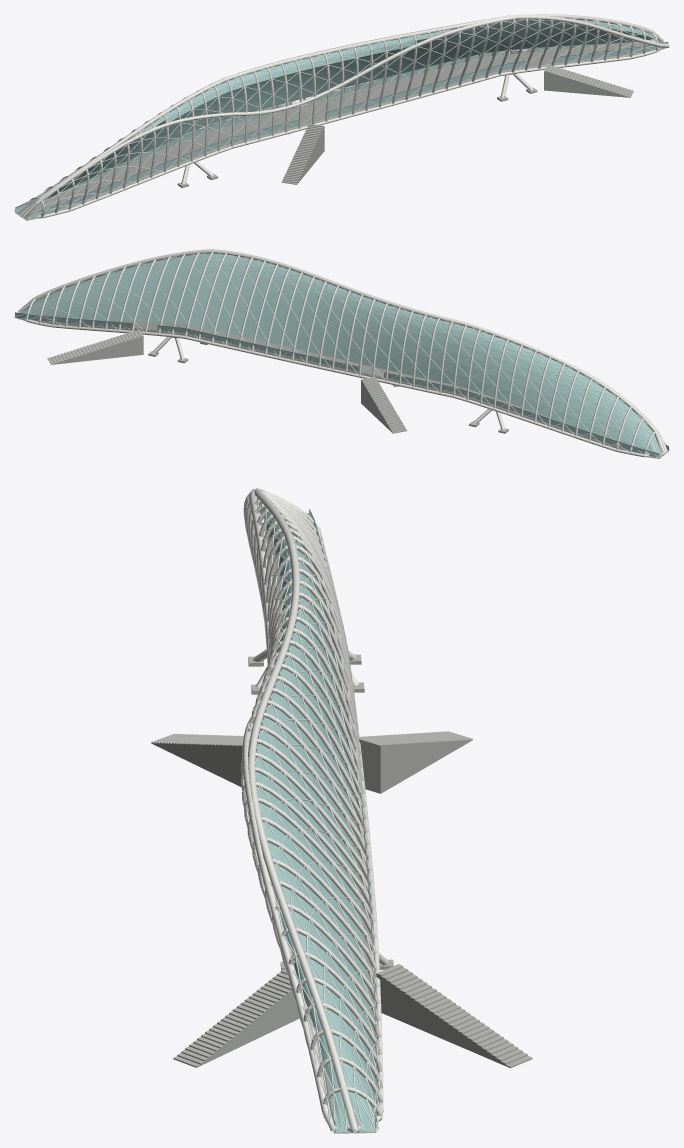
The model's file is bridge-of-peace-tbilisi-near.glb.
3 views of the same model, one above another, from view 1: azimuth 30°, elevation 25°; view 2: azimuth 150°, elevation 25°; view 3: azimuth 270°, elevation 25° (orthographic). The views are drawn at different scales.
Visible parts, largest first — view 1: bridge-of-peace-tbilisi-0-glass, bridge-of-peace-tbilisi-0-steel, bridge-of-peace-tbilisi-0-tube, bridge-of-peace-tbilisi-0-walk, bridge-of-peace-tbilisi-0-glow, bridge-of-peace-tbilisi-0-stair, bridge-of-peace-tbilisi-0-deck, bridge-of-peace-tbilisi-0-rail; view 2: bridge-of-peace-tbilisi-0-glass, bridge-of-peace-tbilisi-0-steel, bridge-of-peace-tbilisi-0-glow, bridge-of-peace-tbilisi-0-tube, bridge-of-peace-tbilisi-0-stair, bridge-of-peace-tbilisi-0-walk, bridge-of-peace-tbilisi-0-deck, bridge-of-peace-tbilisi-0-rail; view 3: bridge-of-peace-tbilisi-0-steel, bridge-of-peace-tbilisi-0-glass, bridge-of-peace-tbilisi-0-stair, bridge-of-peace-tbilisi-0-tube, bridge-of-peace-tbilisi-0-glow, bridge-of-peace-tbilisi-0-walk.
Part boxes in pixels (<box>): bridge-of-peace-tbilisi-0-glass: <box>14,19,668,220</box>; bridge-of-peace-tbilisi-0-steel: <box>27,17,658,217</box>; bridge-of-peace-tbilisi-0-tube: <box>19,14,669,218</box>; bridge-of-peace-tbilisi-0-walk: <box>15,42,666,220</box>; bridge-of-peace-tbilisi-0-glow: <box>14,18,669,219</box>; bridge-of-peace-tbilisi-0-stair: <box>177,48,633,187</box>; bridge-of-peace-tbilisi-0-deck: <box>27,48,666,220</box>; bridge-of-peace-tbilisi-0-rail: <box>15,42,667,215</box>; bridge-of-peace-tbilisi-0-glass: <box>15,253,668,459</box>; bridge-of-peace-tbilisi-0-steel: <box>25,251,655,455</box>; bridge-of-peace-tbilisi-0-glow: <box>14,252,669,458</box>; bridge-of-peace-tbilisi-0-tube: <box>18,249,667,457</box>; bridge-of-peace-tbilisi-0-stair: <box>47,329,508,433</box>; bridge-of-peace-tbilisi-0-walk: <box>15,317,668,458</box>; bridge-of-peace-tbilisi-0-deck: <box>16,318,658,458</box>; bridge-of-peace-tbilisi-0-rail: <box>15,305,668,453</box>; bridge-of-peace-tbilisi-0-steel: <box>241,490,388,1118</box>; bridge-of-peace-tbilisi-0-glass: <box>250,500,376,1132</box>; bridge-of-peace-tbilisi-0-stair: <box>151,654,532,1068</box>; bridge-of-peace-tbilisi-0-tube: <box>242,488,383,1133</box>; bridge-of-peace-tbilisi-0-glow: <box>242,493,380,1130</box>; bridge-of-peace-tbilisi-0-walk: <box>268,538,376,1133</box>.
Size of the model in its own units: 150 by 20.66 by 39.21.
